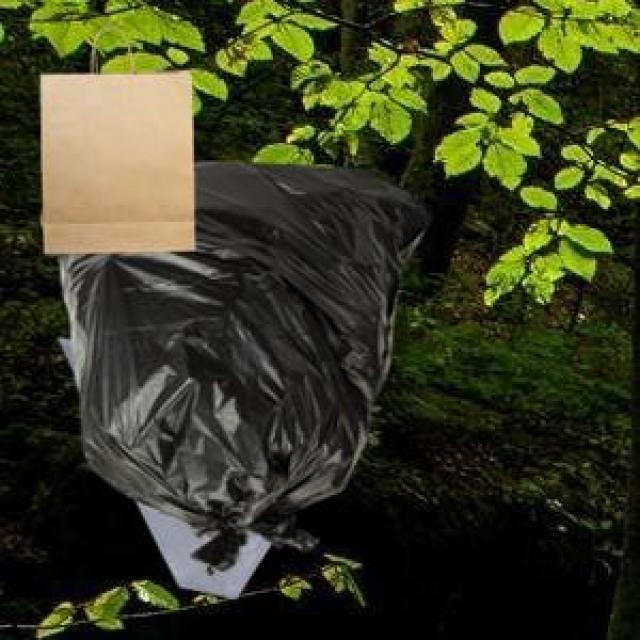miscellaneous trash: (56, 158, 427, 570)
paper: (36, 60, 190, 250)
